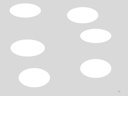round: (15, 65, 52, 89), (8, 37, 48, 58), (78, 57, 113, 79), (64, 4, 100, 25), (6, 0, 43, 20), (78, 26, 113, 45)
